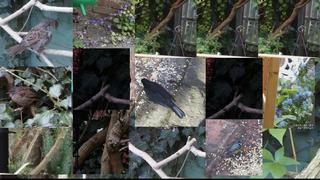blackbird: (141, 78, 186, 119)
blue tit: (226, 139, 242, 155)
dunnock: (4, 20, 53, 56), (5, 86, 52, 112)
